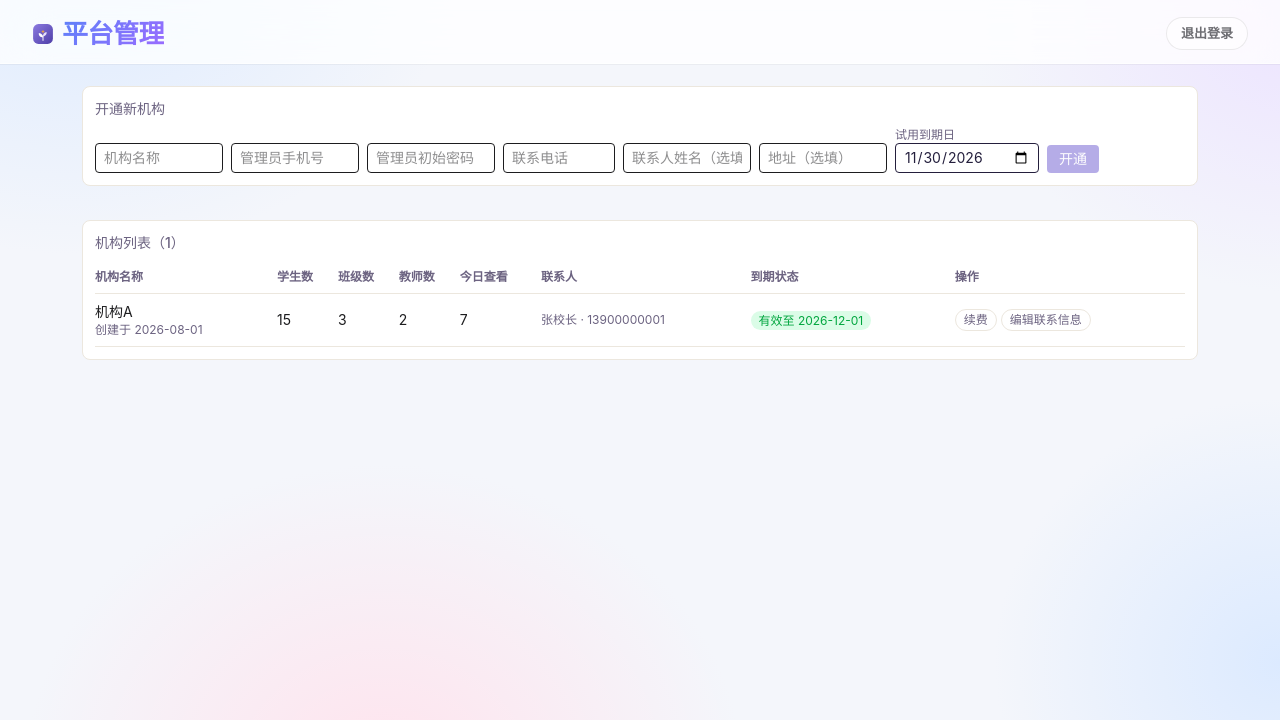
it: PlatformAdminPage › shows a duplicate-phone message on 409
Expected: the text "机构A" is shown, [95,303,133,320]
Type "机构B" into the field with placeholder "机构名称" at (159, 158), box [95,143,223,173]
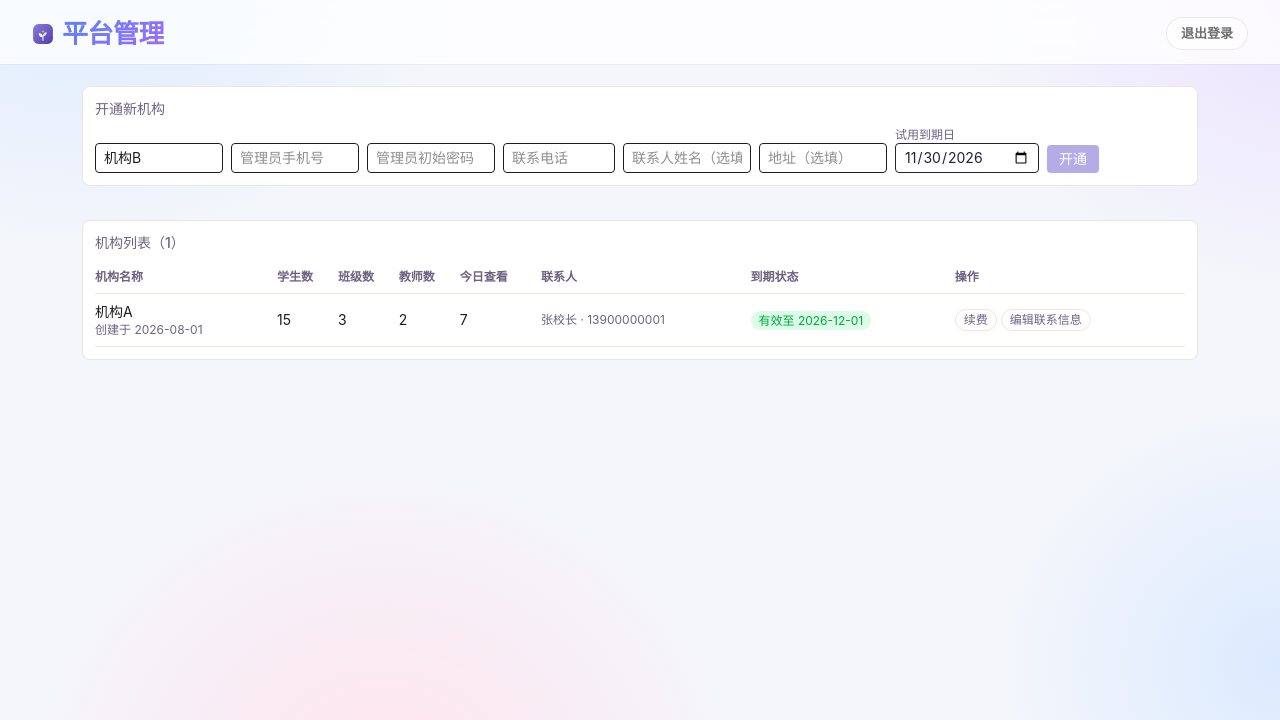
Type "13700000002" into the field with placeholder "管理员手机号" at (295, 158), box [231,143,359,173]
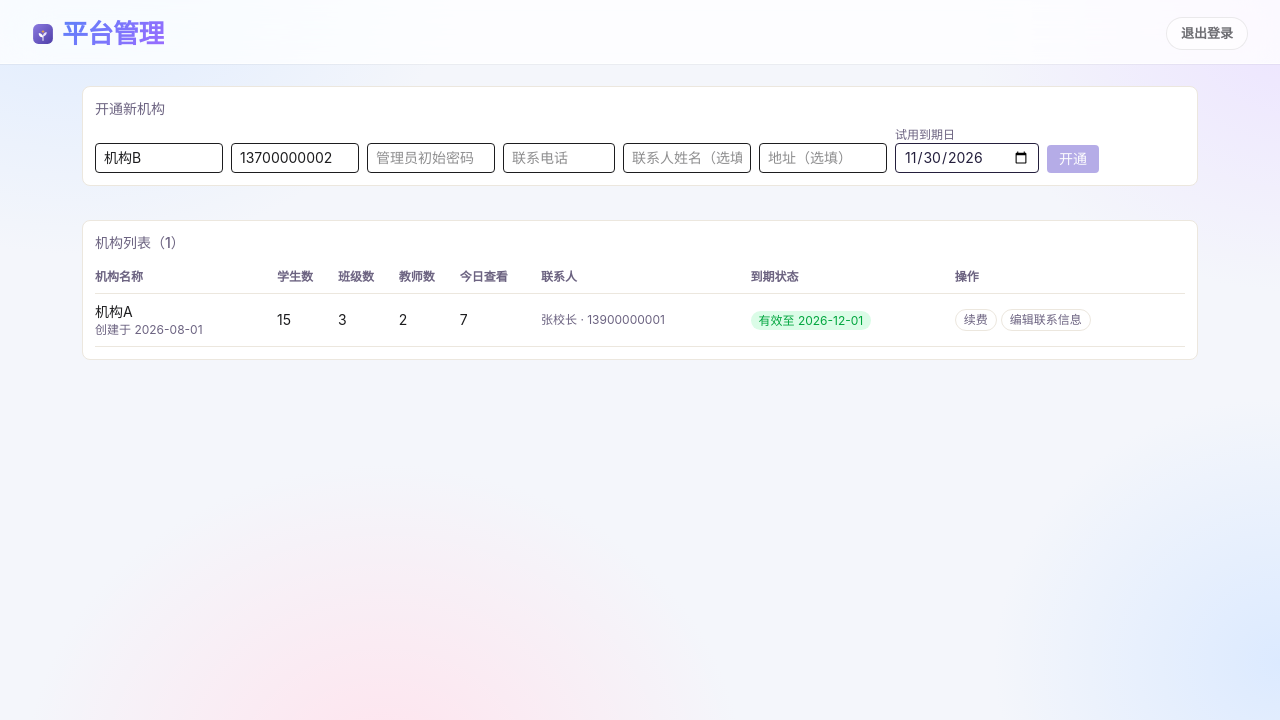
Type "initial123" into the field with placeholder "管理员初始密码" at (431, 158), box [367,143,495,173]
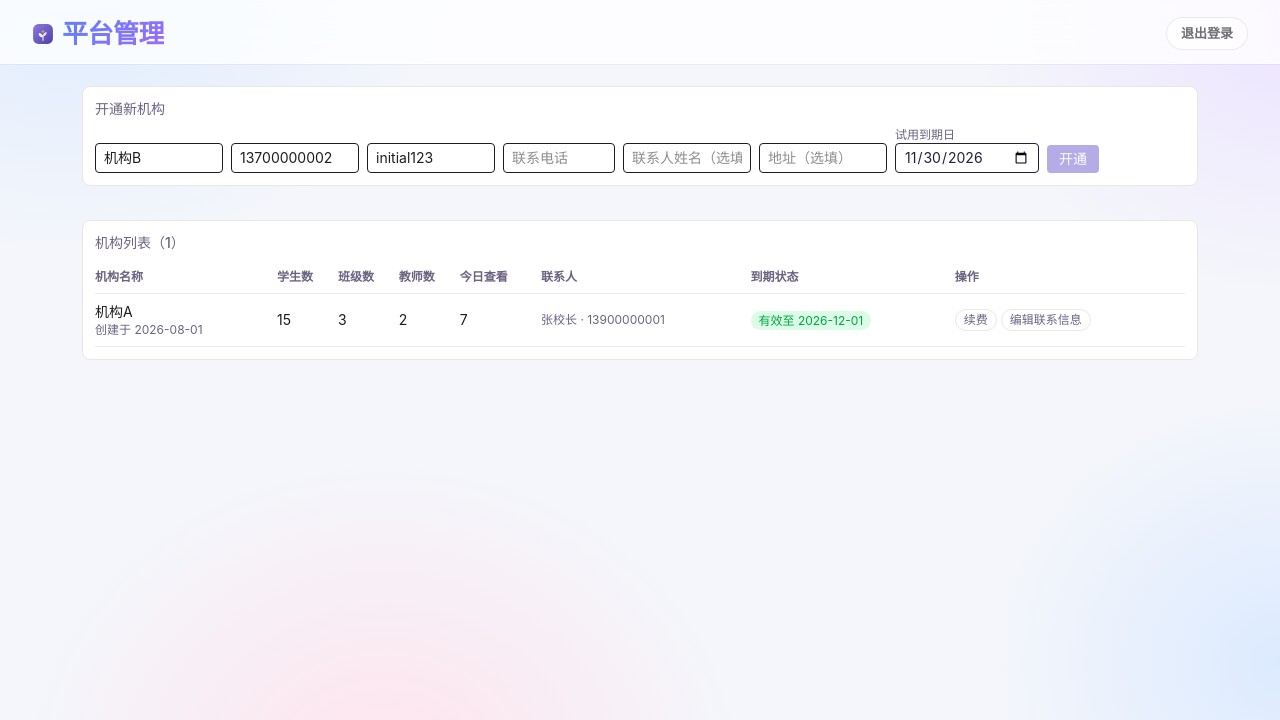
Type "13900000002" into the field with placeholder "联系电话" at (559, 158), box [503,143,615,173]
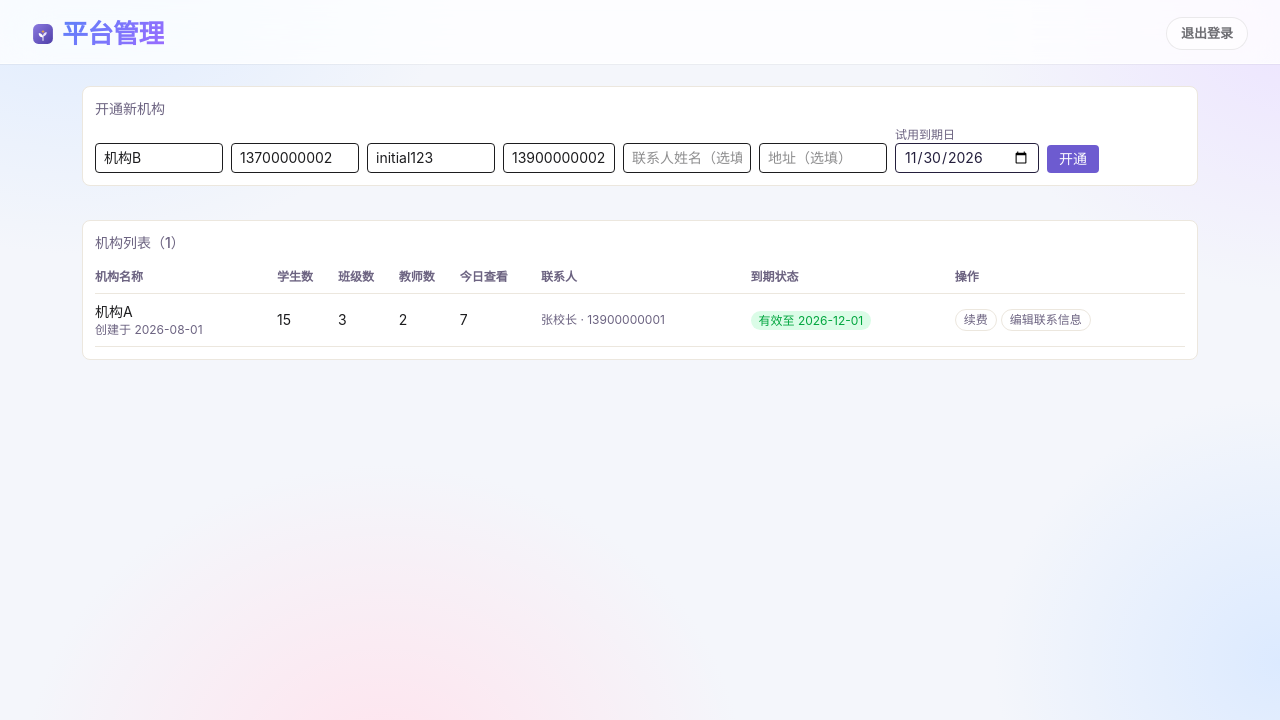
Type "2026-12-31" into the date field labelled "试用到期日" at (967, 158), box [895,143,1039,173]
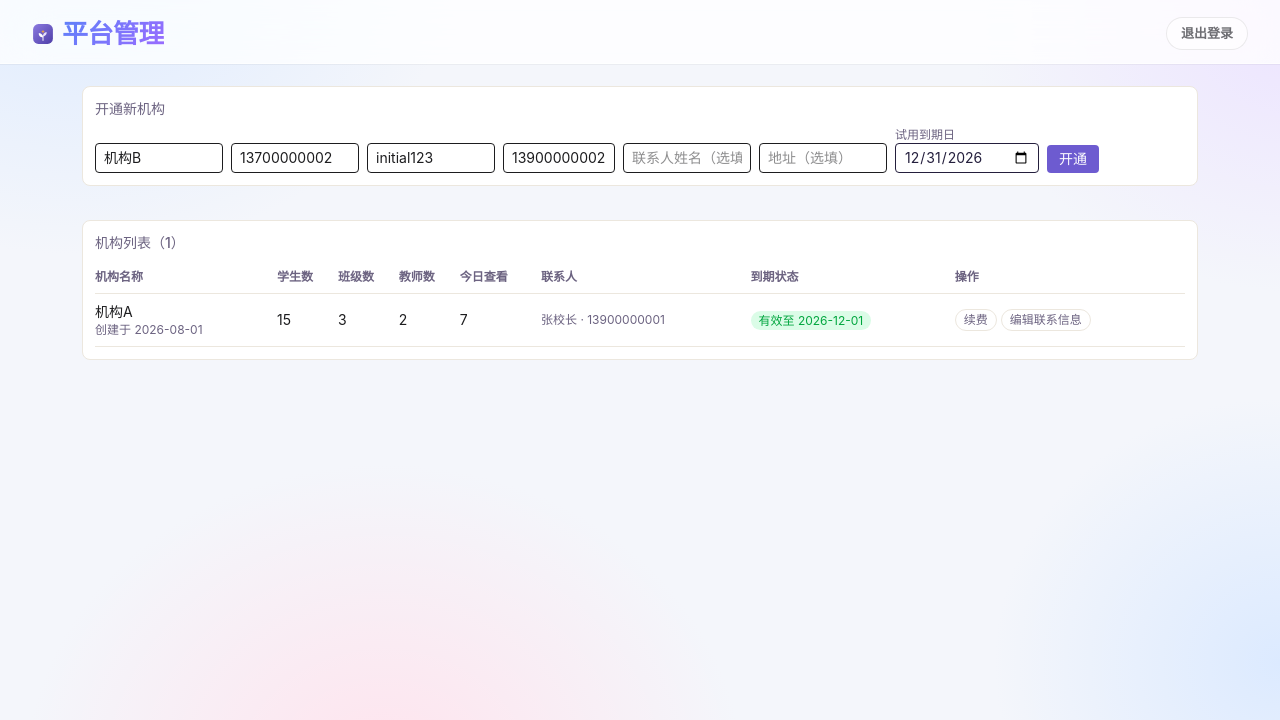
Click the button "开通" at (1073, 159), box [1047,145,1099,173]
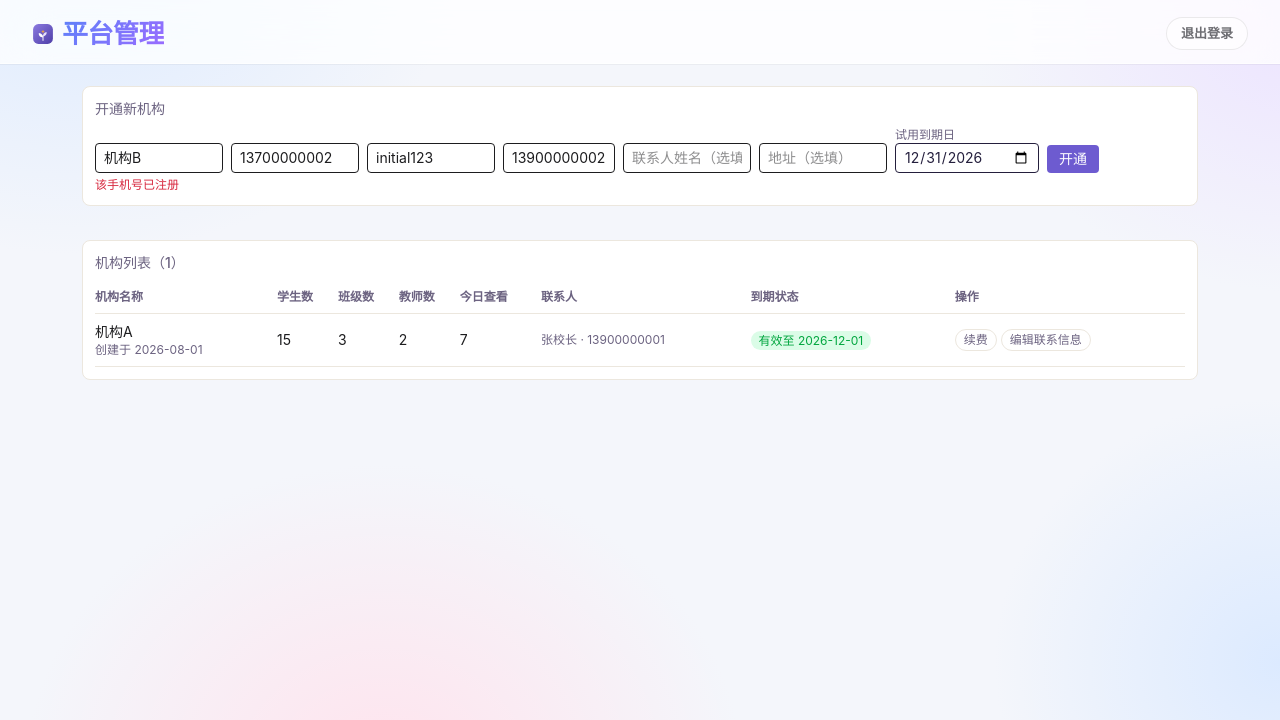
Now the text "该手机号已注册" is shown, box [95,177,179,192]
